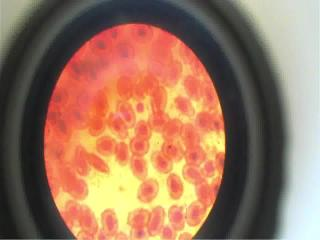cell: (181, 126, 204, 150), (150, 150, 173, 173), (108, 114, 130, 138), (150, 86, 172, 110), (133, 23, 156, 45), (117, 100, 137, 124), (134, 180, 160, 198), (150, 204, 165, 234), (188, 201, 206, 226), (129, 156, 150, 177), (149, 111, 171, 131), (56, 114, 72, 141), (82, 208, 100, 232), (170, 204, 188, 228), (162, 120, 183, 140), (167, 175, 183, 200), (165, 140, 185, 160), (186, 146, 206, 166), (126, 207, 152, 222), (95, 135, 115, 154), (50, 86, 73, 102), (183, 166, 206, 182), (173, 96, 193, 114), (91, 113, 108, 134), (186, 78, 203, 99), (94, 90, 110, 112), (105, 208, 121, 230), (169, 62, 183, 87), (193, 182, 210, 202), (197, 113, 215, 131), (117, 43, 134, 62), (66, 201, 85, 218), (70, 104, 84, 127), (92, 33, 109, 51), (131, 138, 150, 154), (116, 142, 130, 162), (45, 106, 61, 122), (135, 120, 151, 135), (212, 176, 222, 198), (216, 153, 228, 171)
